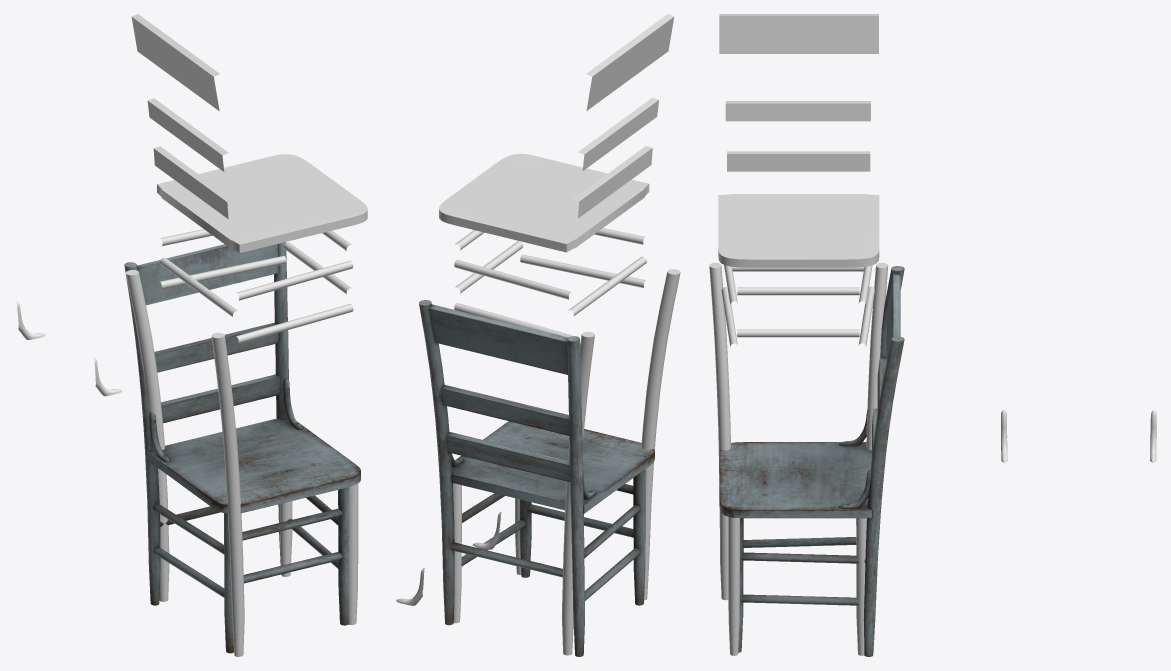
File: painted_wooden_chair_02.glb
The picture shows the model from 3 angles, left to right: view 1: azimuth 30°, elevation 25°; view 2: azimuth 150°, elevation 25°; view 3: azimuth 270°, elevation 25°; orthographic projection. The views are drawn at different scales.
Visible parts, largest first — view 1: old, painted_wooden_chair_02; view 2: painted_wooden_chair_02, old; view 3: old, painted_wooden_chair_02.
Boxes of the visible parts, x1=… form: old: x1=16, y1=14, x2=367, y2=656; painted_wooden_chair_02: x1=124, y1=242, x2=360, y2=653; painted_wooden_chair_02: x1=419, y1=300, x2=654, y2=656; old: x1=396, y1=14, x2=680, y2=655; old: x1=709, y1=14, x2=1156, y2=655; painted_wooden_chair_02: x1=719, y1=266, x2=904, y2=656.
Bounding box in the file's own units: 0.6678 × 2.25 × 1.6.
Materials: 1 (1 with a texture image).
